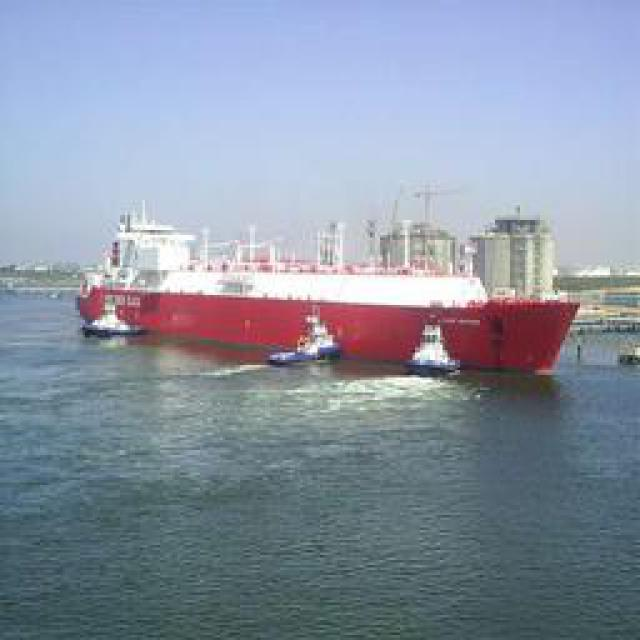Ship: (76, 206, 566, 369)
